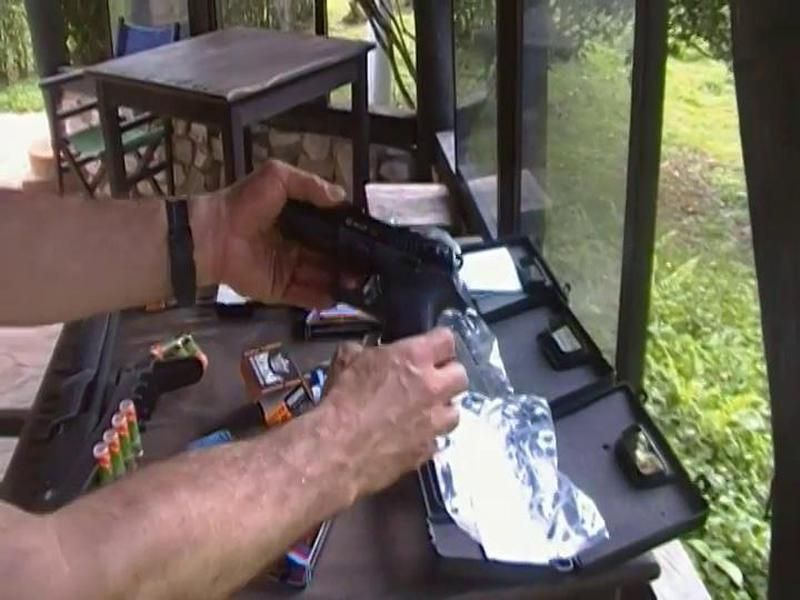Pistola: (254, 175, 484, 367)
